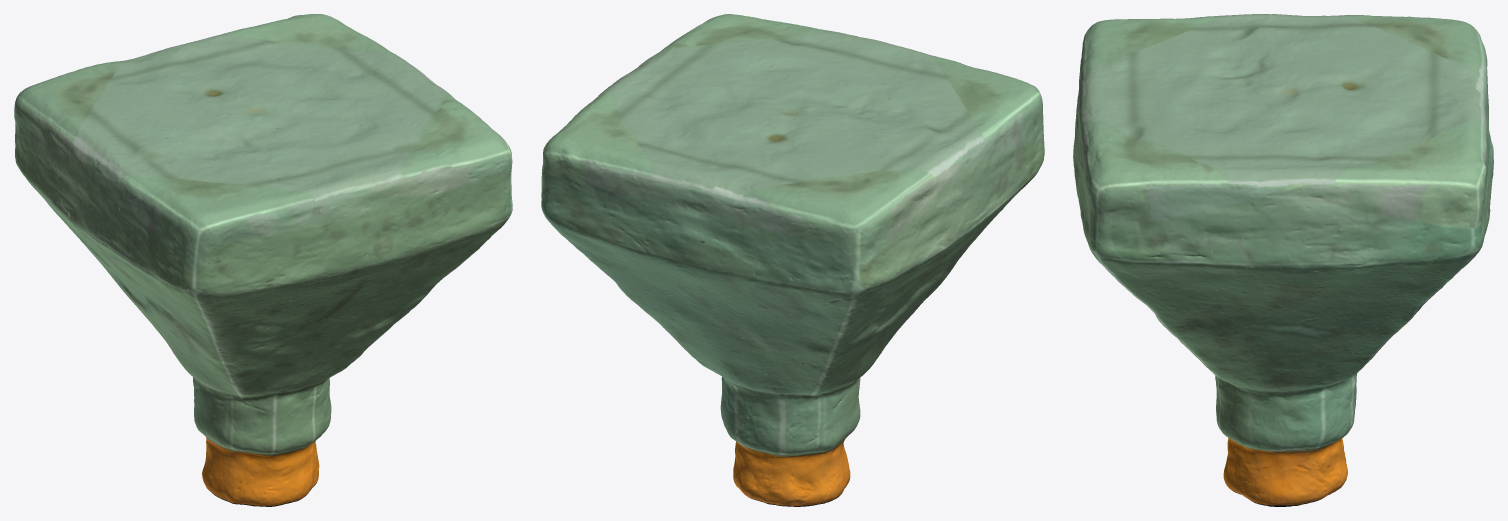
The model's file is ChickenFeeder_1120192110_texture.fbx.
3 views of the same model, side by side, from view 1: azimuth 30°, elevation 25°; view 2: azimuth 150°, elevation 25°; view 3: azimuth 270°, elevation 25° (orthographic). The views are drawn at different scales.
Visible parts, largest first — view 1: input; view 2: input; view 3: input.
Part boxes in pixels (x1,y1,x2,y2): input: (14,14,512,506); input: (541,14,1044,506); input: (1073,14,1493,506).
Size of the model in its own units: 183 by 190 by 184.
Materials: 1 (1 with a texture image).
